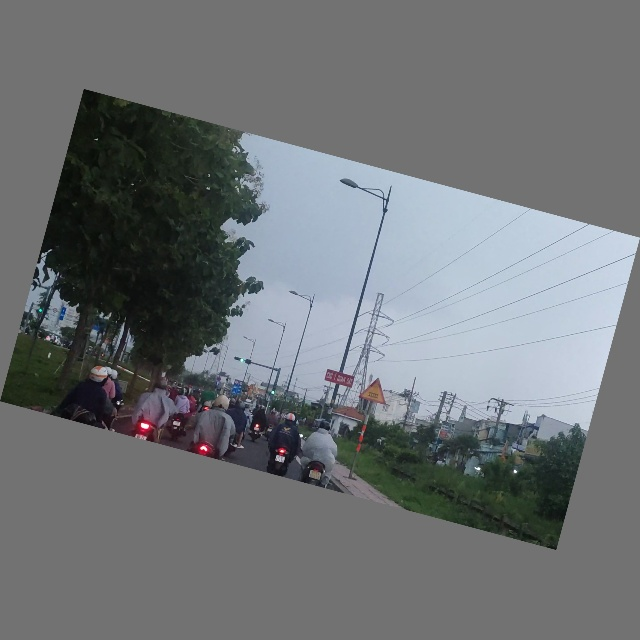W.210: (357, 375, 393, 407)
